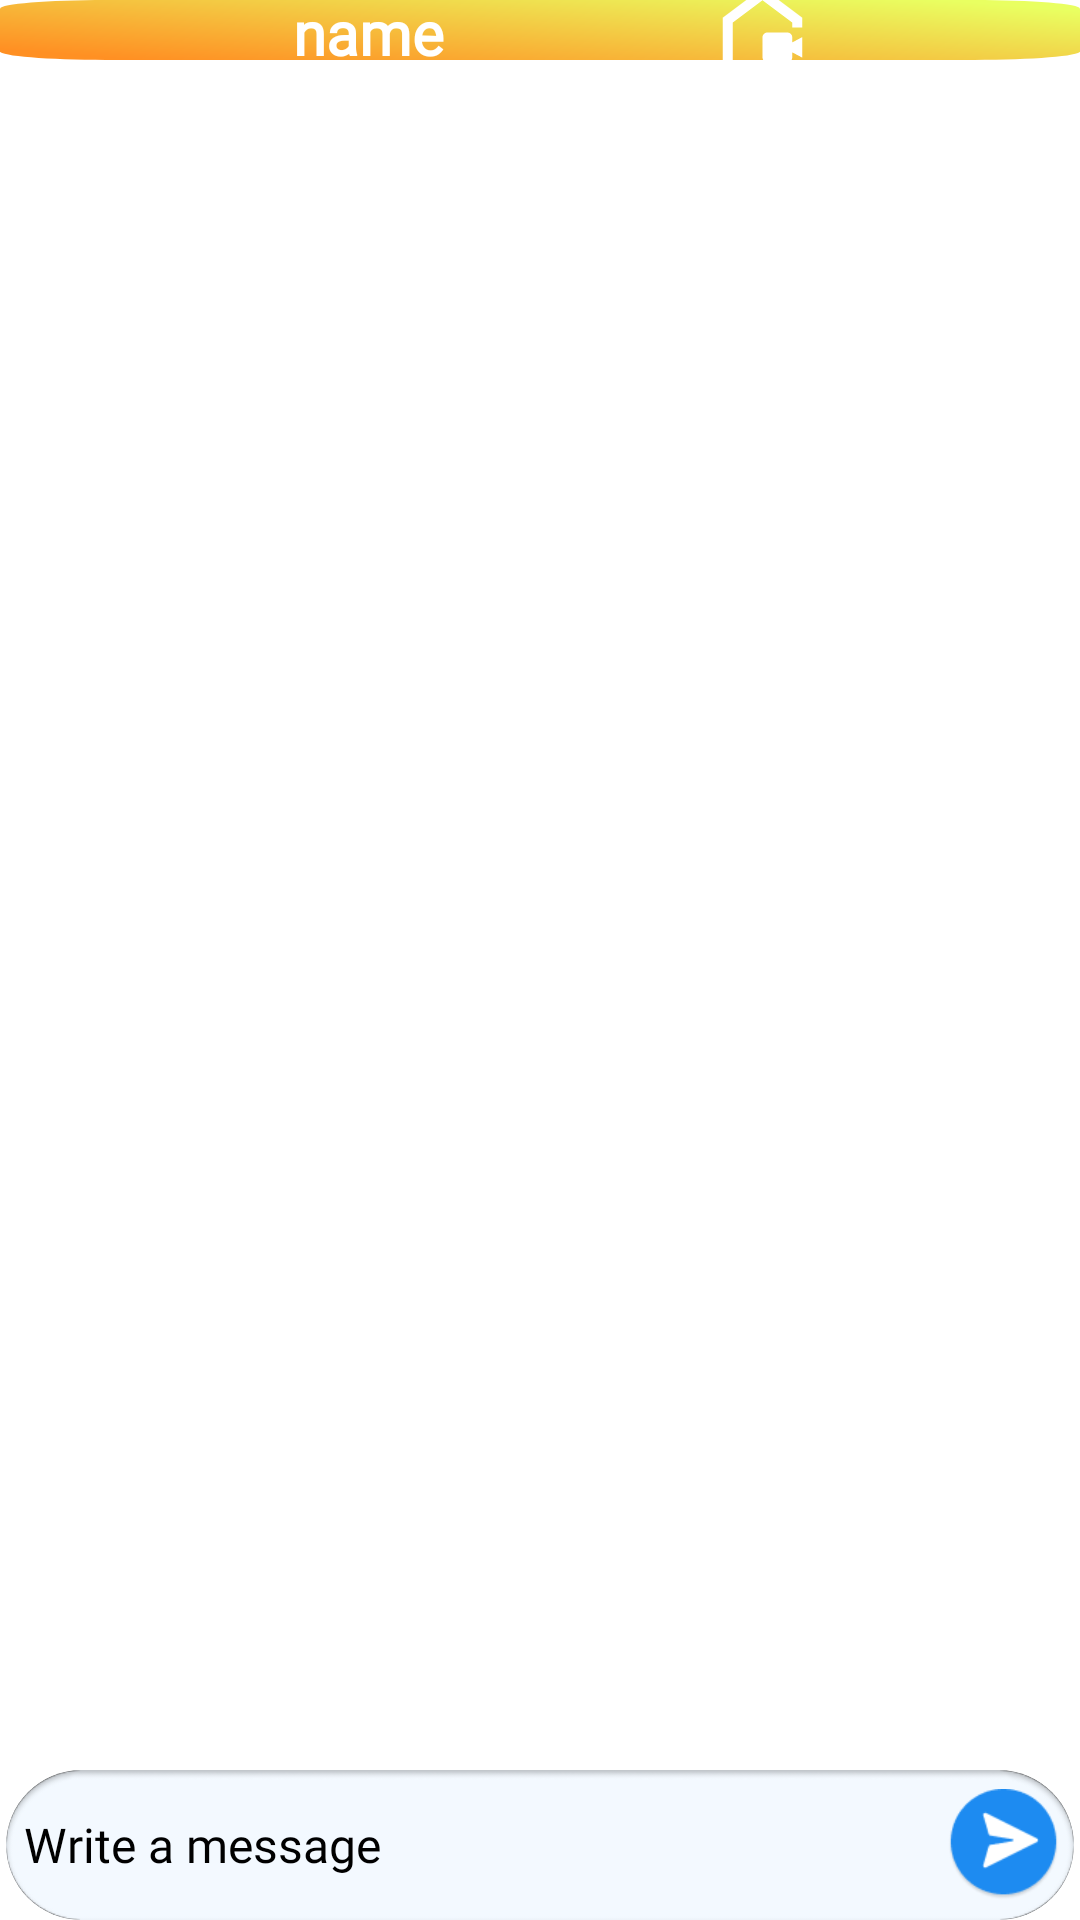

Screen size 1080*1920. Icon name, then its center in pixels as (x,y):
send: (1003,1843)
